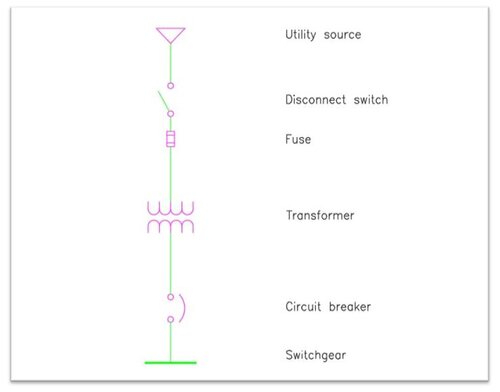circuit_breaker: (145, 279, 210, 336)
fuse: (150, 121, 187, 158)
switch: (147, 57, 189, 117)
transformer: (122, 178, 226, 262)
